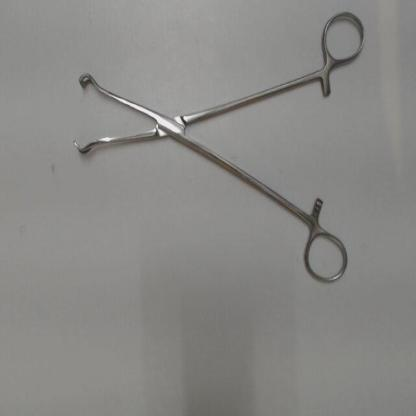8 Babcock Tissue Forceps: (66, 8, 368, 288)
